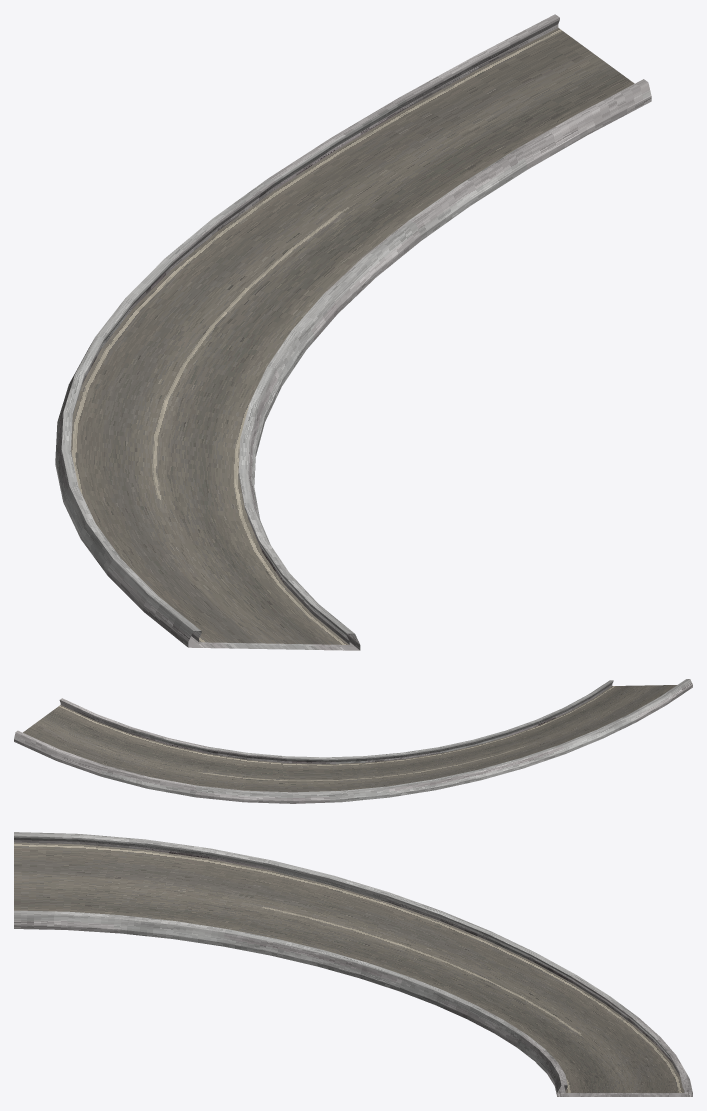
The model's file is road-Turn-HalfBankedRight-BiSlopeUp-Up2-Right-Size5.glb.
The picture shows the model from 3 angles, top to bottom: view 1: azimuth 30°, elevation 25°; view 2: azimuth 150°, elevation 25°; view 3: azimuth 270°, elevation 25°; orthographic projection. The views are drawn at different scales.
Parts seen in each view (by area): view 1: road-Turn-HalfBankedRight-BiSlopeUp-Up2-Right-Size5; view 2: road-Turn-HalfBankedRight-BiSlopeUp-Up2-Right-Size5; view 3: road-Turn-HalfBankedRight-BiSlopeUp-Up2-Right-Size5.
Part boxes in pixels (x1,y1,x2,y2): road-Turn-HalfBankedRight-BiSlopeUp-Up2-Right-Size5: (55,14,651,650); road-Turn-HalfBankedRight-BiSlopeUp-Up2-Right-Size5: (14,679,692,803); road-Turn-HalfBankedRight-BiSlopeUp-Up2-Right-Size5: (14,832,692,1096).
Size of the model in its own units: 5 by 0.595 by 5.
2 materials, 2 textured.
